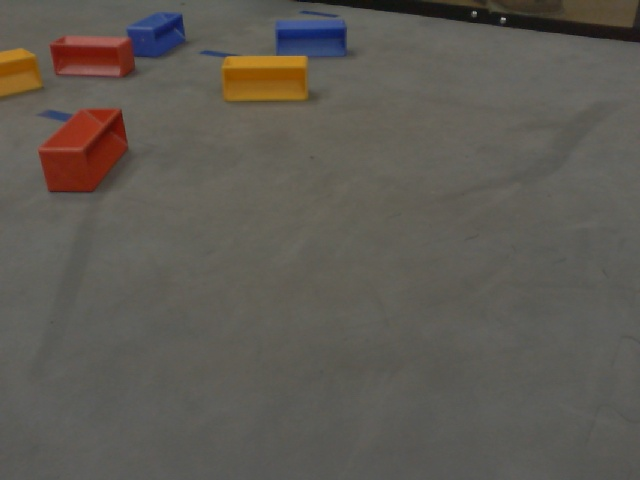BlueSample: (270, 18, 353, 59), (124, 8, 188, 59)
RedSample: (37, 105, 131, 193), (47, 31, 139, 80)
YellowSample: (220, 51, 315, 104), (1, 45, 47, 103)
